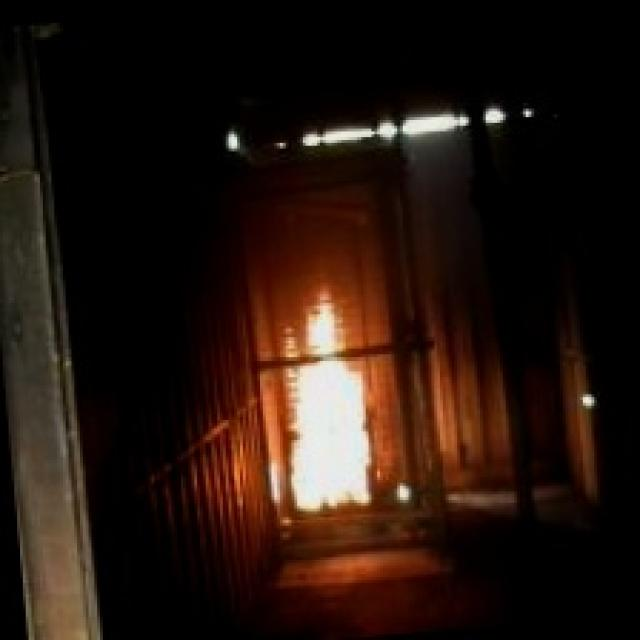fire: (260, 260, 389, 506)
